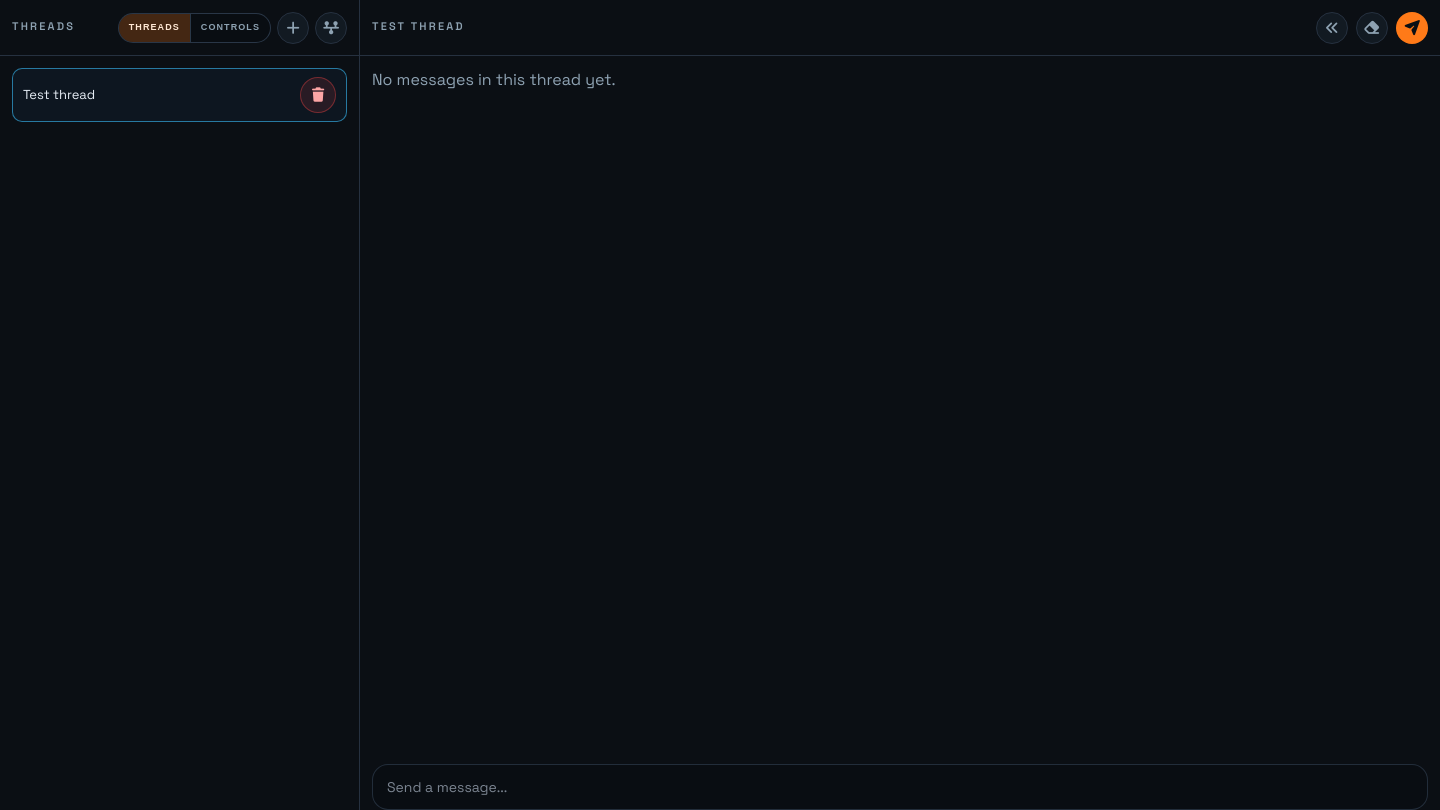
ChatPage › shows the pending thinking bubble before session-save completes
The image size is (1440, 810).
Expected: the button named "send" is shown, [1396, 12, 1428, 44]
Click the button "Controls" at (230, 28), box [190, 14, 270, 42]
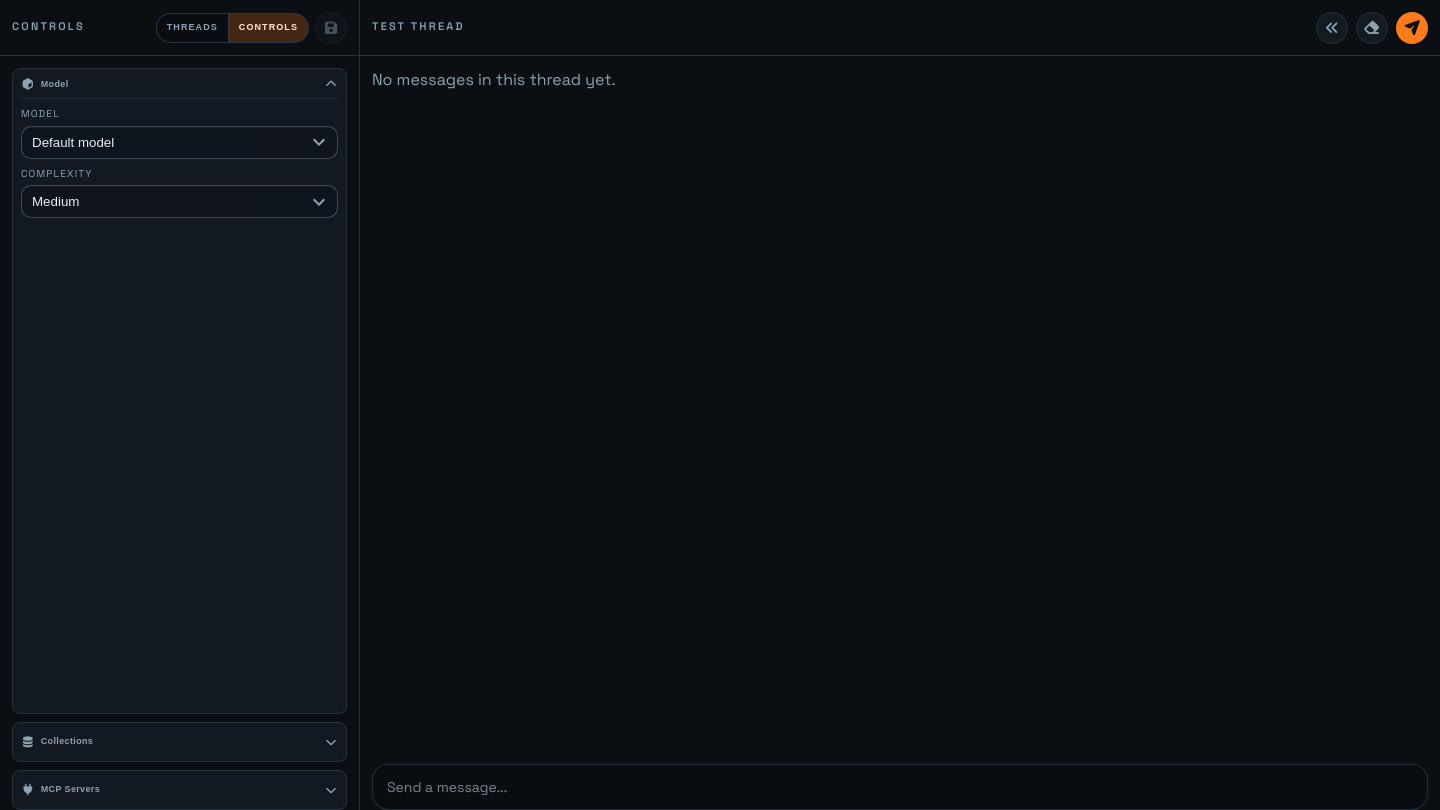
Select "High" in the dropdown labelled "complexity" at (180, 202), box [21, 185, 338, 218]
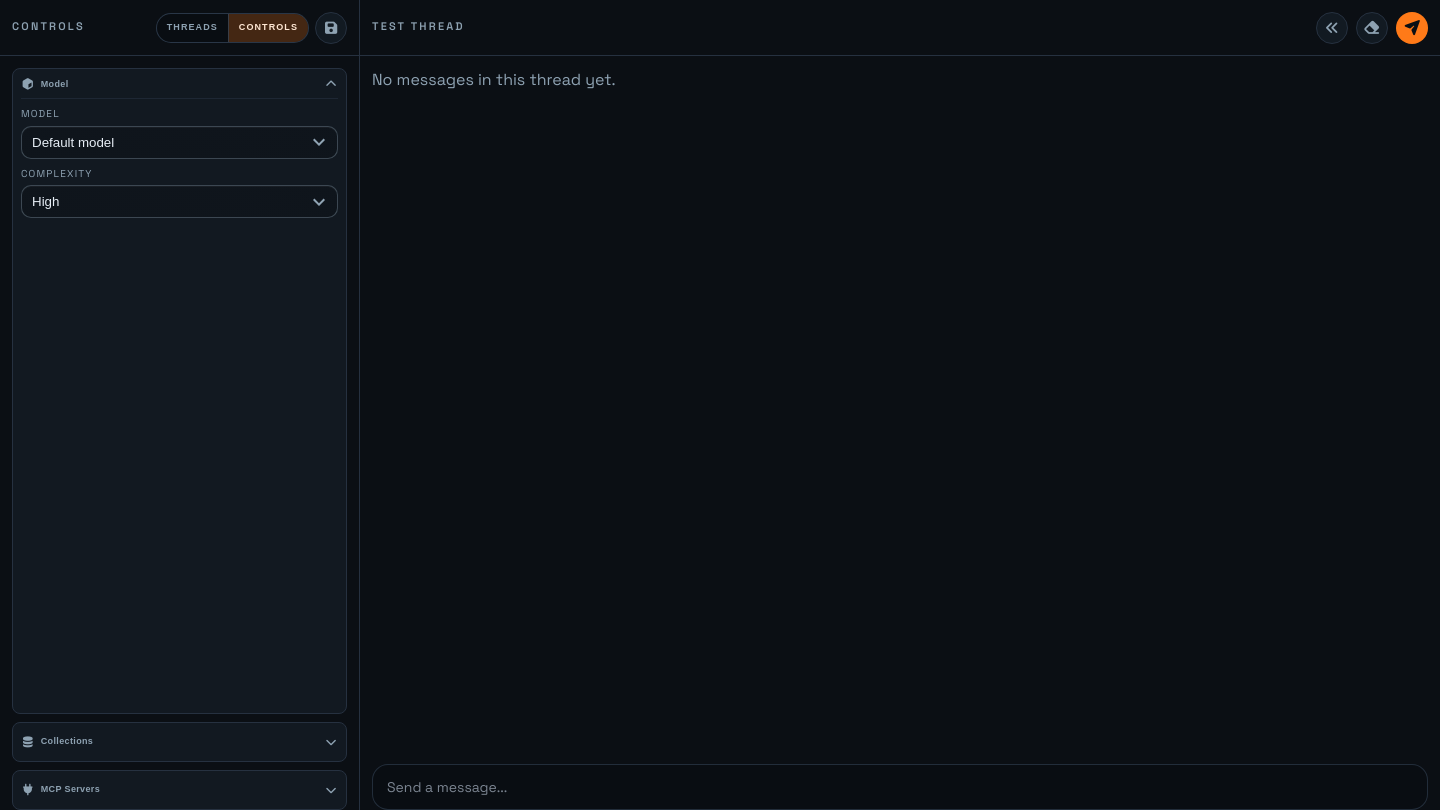
Type "sync me first" into the text box with placeholder "Send a message..." at (900, 787), box [372, 764, 1428, 809]
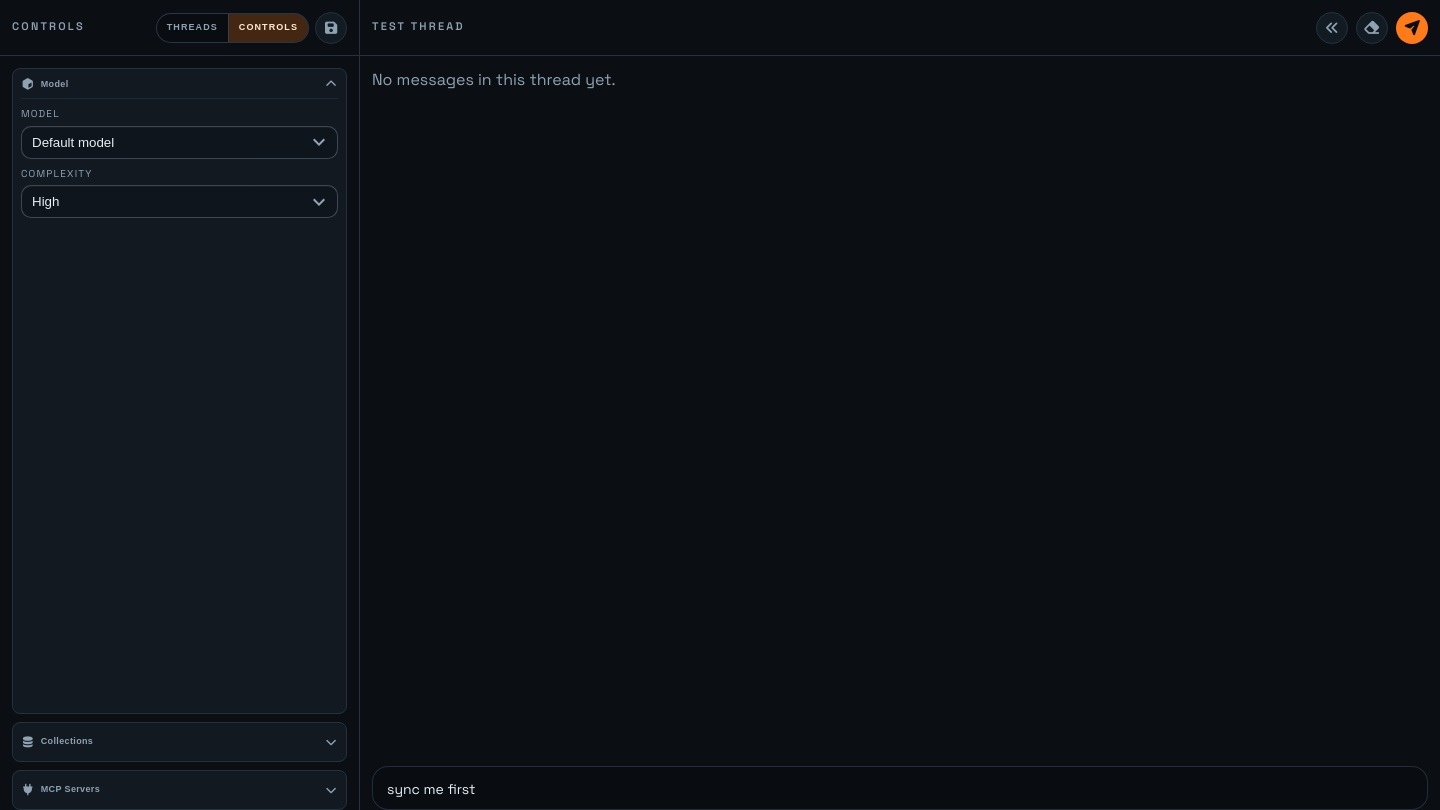
Click the button named "send" at (1412, 28), box [1396, 12, 1428, 44]
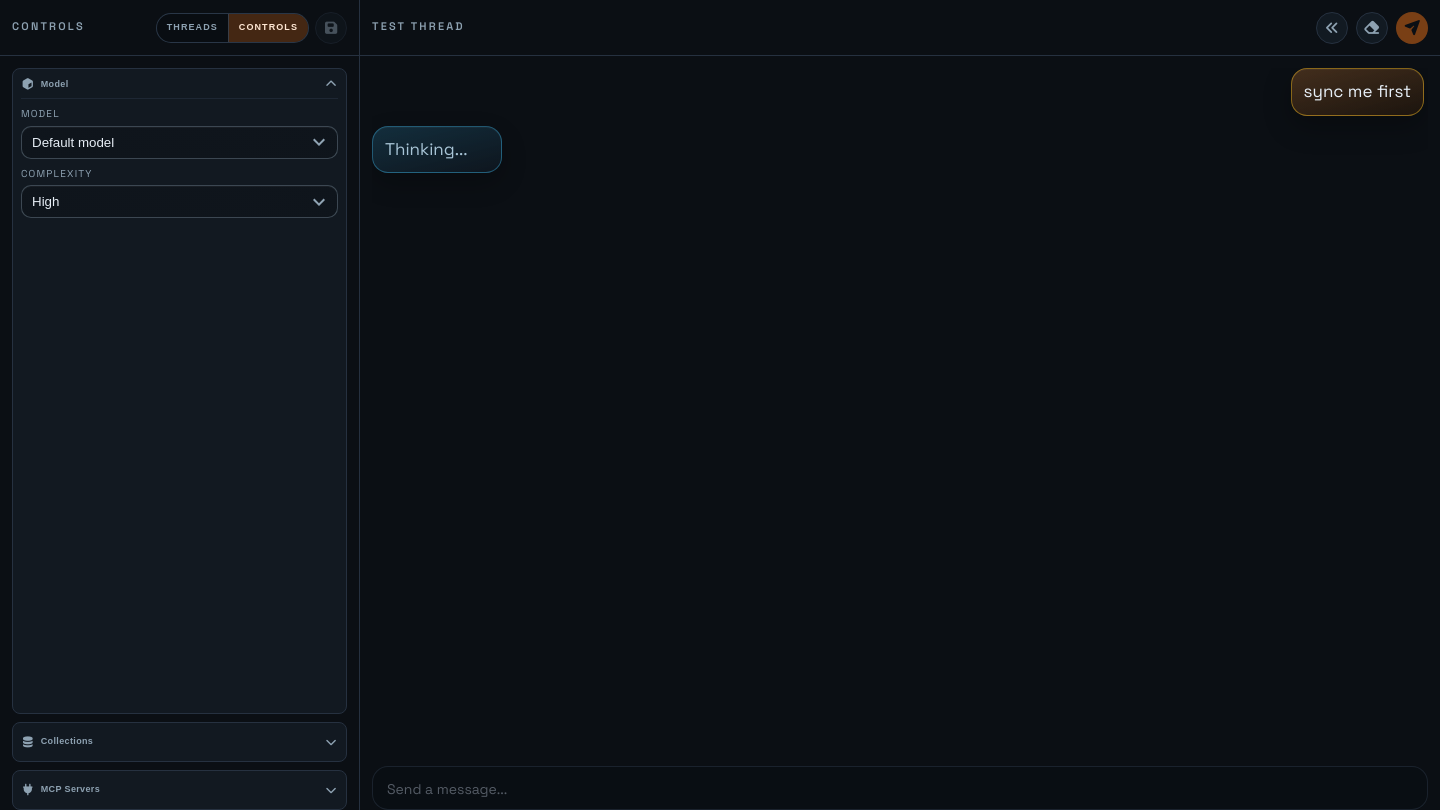
Result: the text "Thinking..." is shown at [385, 136, 489, 162]
